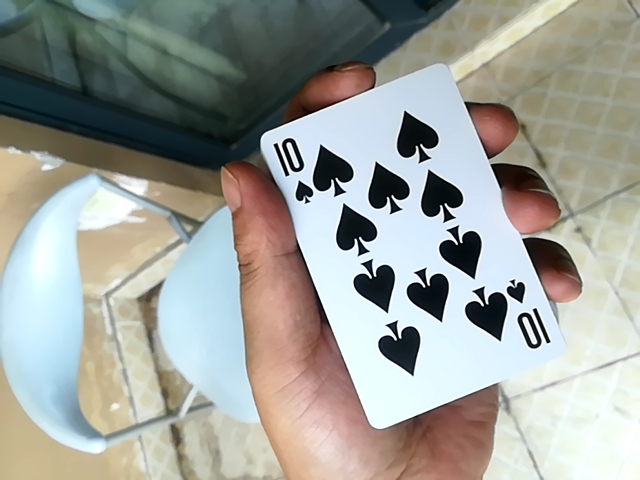ht 10: (231, 65, 578, 421)
